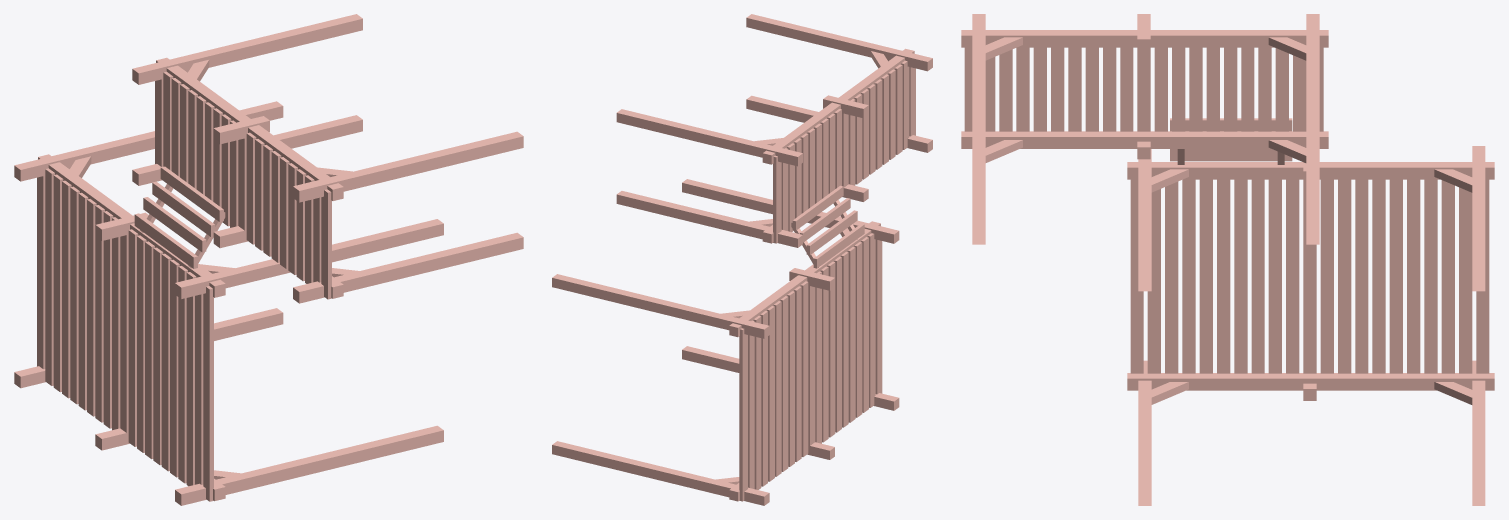
File: Mega_Asset_s_Pack_Cube_264.FBX
3 views of the same model, side by side, from view 1: azimuth 30°, elevation 25°; view 2: azimuth 150°, elevation 25°; view 3: azimuth 270°, elevation 25° (orthographic). The views are drawn at different scales.
Visible parts, largest first — view 1: Mega_Asset_s_Pack_Cube_264; view 2: Mega_Asset_s_Pack_Cube_264; view 3: Mega_Asset_s_Pack_Cube_264.
Part boxes in pixels (x1=…): Mega_Asset_s_Pack_Cube_264: x1=14, y1=14, x2=523, y2=505; Mega_Asset_s_Pack_Cube_264: x1=552, y1=14, x2=932, y2=505; Mega_Asset_s_Pack_Cube_264: x1=961, y1=14, x2=1494, y2=505.
Size of what is drawn, in the model's own units: 544 by 920 by 725.
